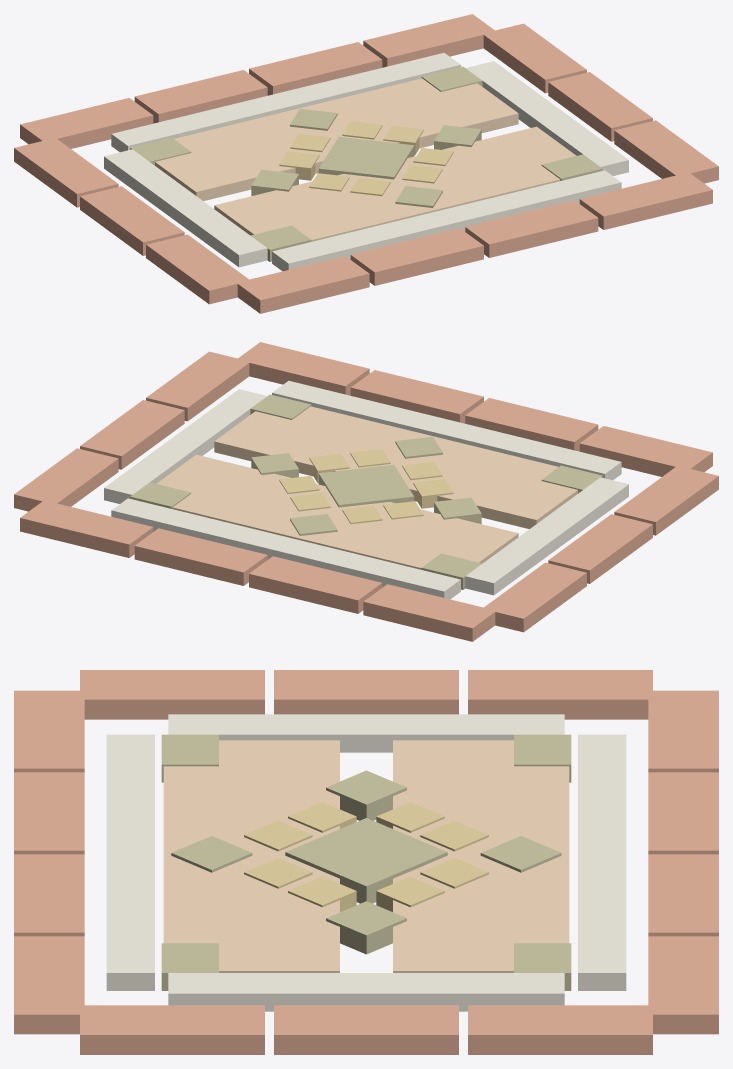
File: rug_market.glb
The picture shows the model from 3 angles, top to bottom: view 1: azimuth 30°, elevation 25°; view 2: azimuth 150°, elevation 25°; view 3: azimuth 270°, elevation 25°; orthographic projection. The views are drawn at different scales.
Parts seen in each view (by area): view 1: Field_-1, Field_1, Cf_h_1, Cf_h_-1, Cf_v_-1, Cf_v_1, Bd_1_0, Bd_1_1, Bd_1_2, Bd_1_3, Bs_-1_2, Bd_-1_0 (+25 smaller); view 2: Field_1, Field_-1, Cf_h_-1, Cf_h_1, Cf_v_-1, Cf_v_1, Bd_-1_0, Bd_-1_1, Bd_-1_2, Bd_-1_3, Bs_-1_0, Bd_1_0 (+25 smaller); view 3: Field_1, Field_-1, Cf_v_1, Cf_h_1, Cf_h_-1, Cf_v_-1, Bs_1_0, Bs_1_1, Bs_1_2, Bs_-1_2, Bs_-1_0, Bs_-1_1 (+25 smaller).
Boxes of the visible parts, left/top/right/bottom form: Field_-1: left=155, top=78, right=518, bottom=200; Field_1: left=214, top=126, right=576, bottom=241; Cf_h_1: left=272, top=170, right=621, bottom=271; Cf_h_-1: left=111, top=52, right=460, bottom=152; Cf_v_-1: left=104, top=149, right=267, bottom=267; Cf_v_1: left=466, top=61, right=628, bottom=175; Bd_1_0: left=237, top=256, right=369, bottom=313; Bd_1_1: left=350, top=228, right=483, bottom=285; Bd_1_2: left=465, top=200, right=598, bottom=257; Bd_1_3: left=579, top=172, right=712, bottom=229; Bs_-1_2: left=146, top=234, right=249, bottom=304; Bd_-1_0: left=20, top=98, right=153, bottom=148; Field_1: left=214, top=406, right=577, bottom=528; Field_-1: left=156, top=454, right=518, bottom=569; Cf_h_-1: left=111, top=498, right=460, bottom=599; Cf_h_1: left=272, top=380, right=621, bottom=480; Cf_v_-1: left=465, top=477, right=628, bottom=595; Cf_v_1: left=104, top=389, right=266, bottom=503; Bd_-1_0: left=363, top=584, right=495, bottom=641; Bd_-1_1: left=249, top=556, right=382, bottom=613; Bd_-1_2: left=134, top=528, right=267, bottom=585; Bd_-1_3: left=20, top=500, right=153, bottom=557; Bs_-1_0: left=483, top=562, right=586, bottom=632; Bd_1_0: left=579, top=426, right=712, bottom=476; Field_1: left=163, top=740, right=339, bottom=972; Field_-1: left=393, top=740, right=569, bottom=972; Cf_v_1: left=168, top=973, right=564, bottom=1011; Cf_h_1: left=106, top=734, right=154, bottom=990; Cf_h_-1: left=578, top=734, right=626, bottom=990; Cf_v_-1: left=168, top=714, right=564, bottom=752; Bs_1_0: left=468, top=1005, right=652, bottom=1054; Bs_1_1: left=274, top=1005, right=458, bottom=1054; Bs_1_2: left=80, top=1005, right=264, bottom=1054; Bs_-1_2: left=80, top=670, right=264, bottom=719; Bs_-1_0: left=468, top=670, right=652, bottom=719; Bs_-1_1: left=274, top=670, right=458, bottom=714.
Size of the model in its own units: 1.96 by 0.051 by 1.6.
